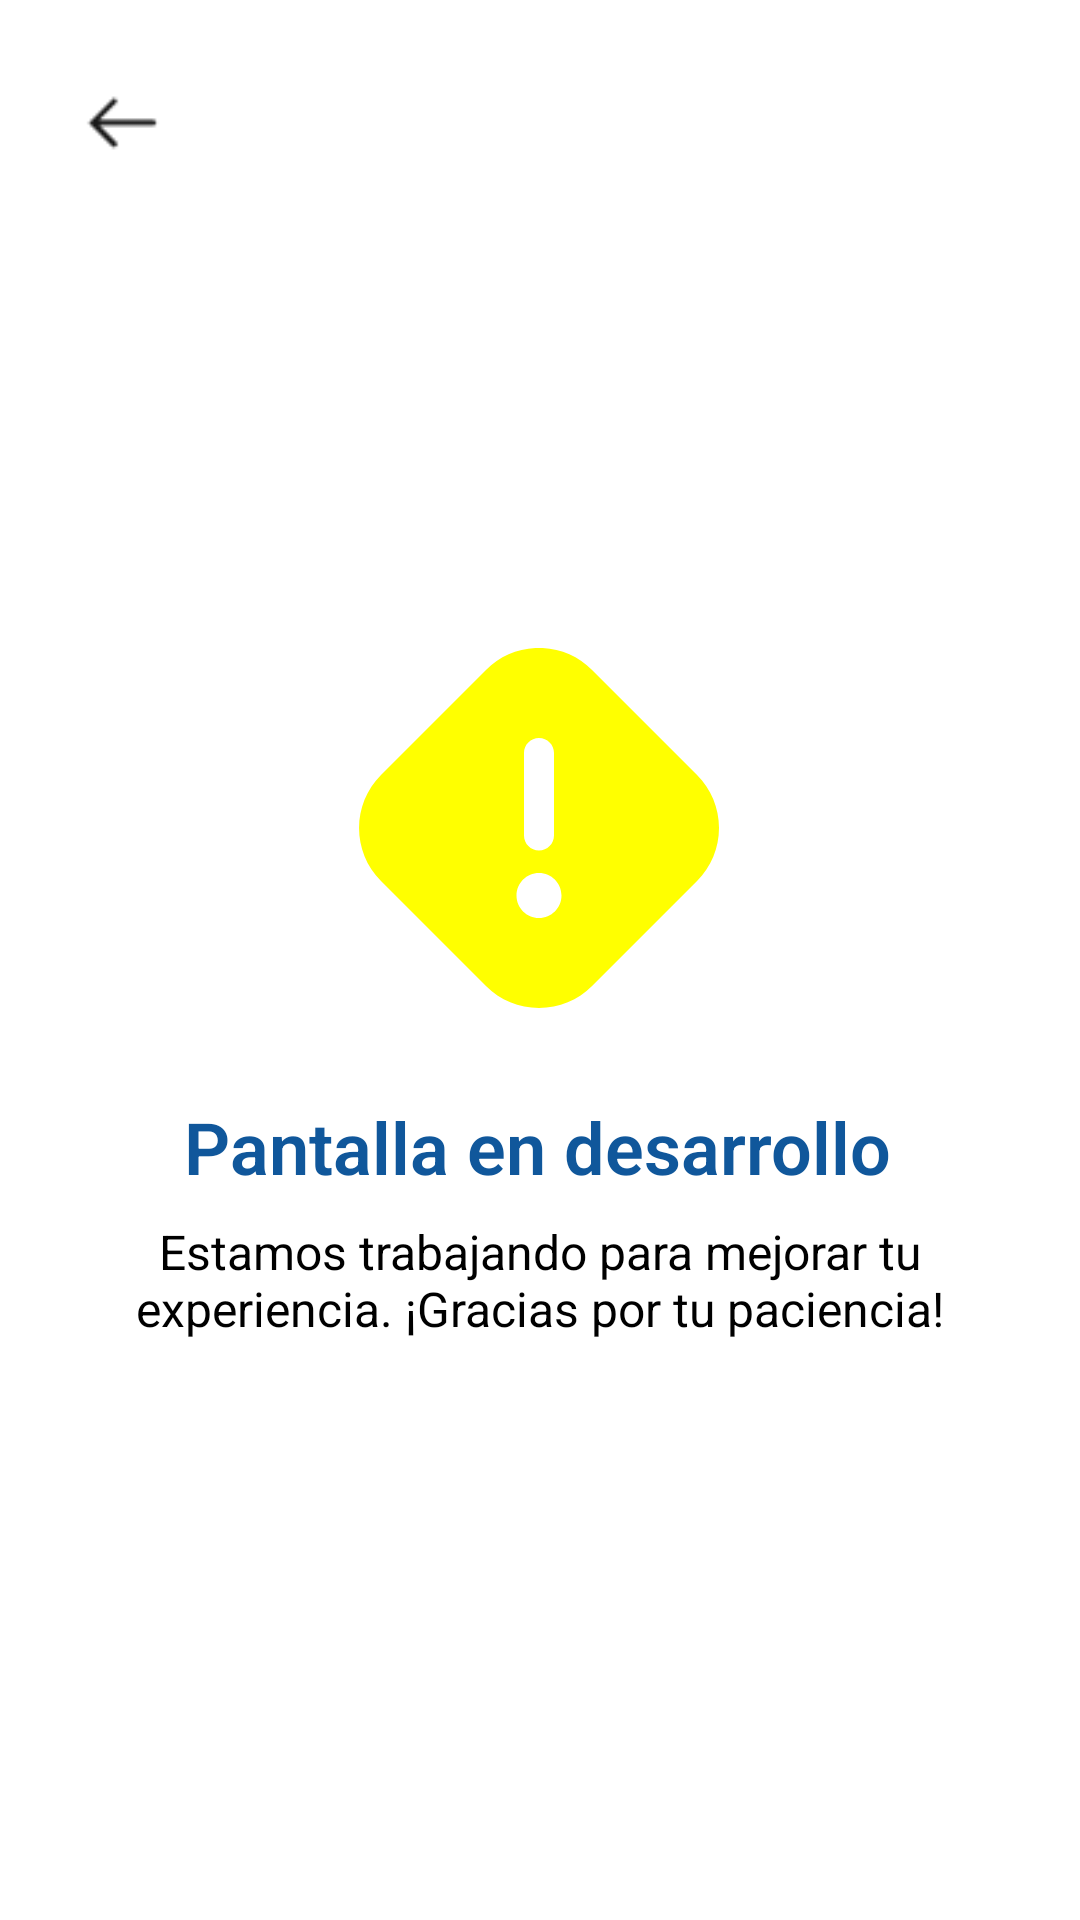

Where to tap for icons on this 1080w x 1920h app screen, as [x,y]:
back: [122,123]
